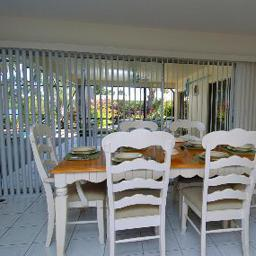Ventana: (3, 49, 253, 195)
